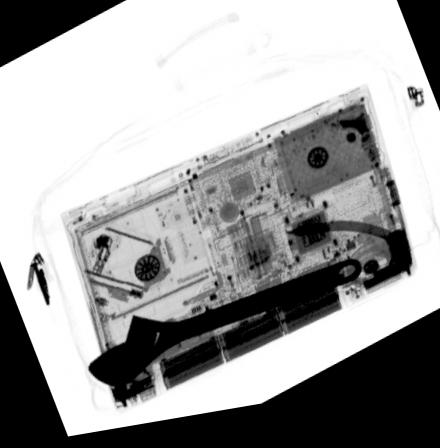Wrench: (87, 267, 363, 394)
